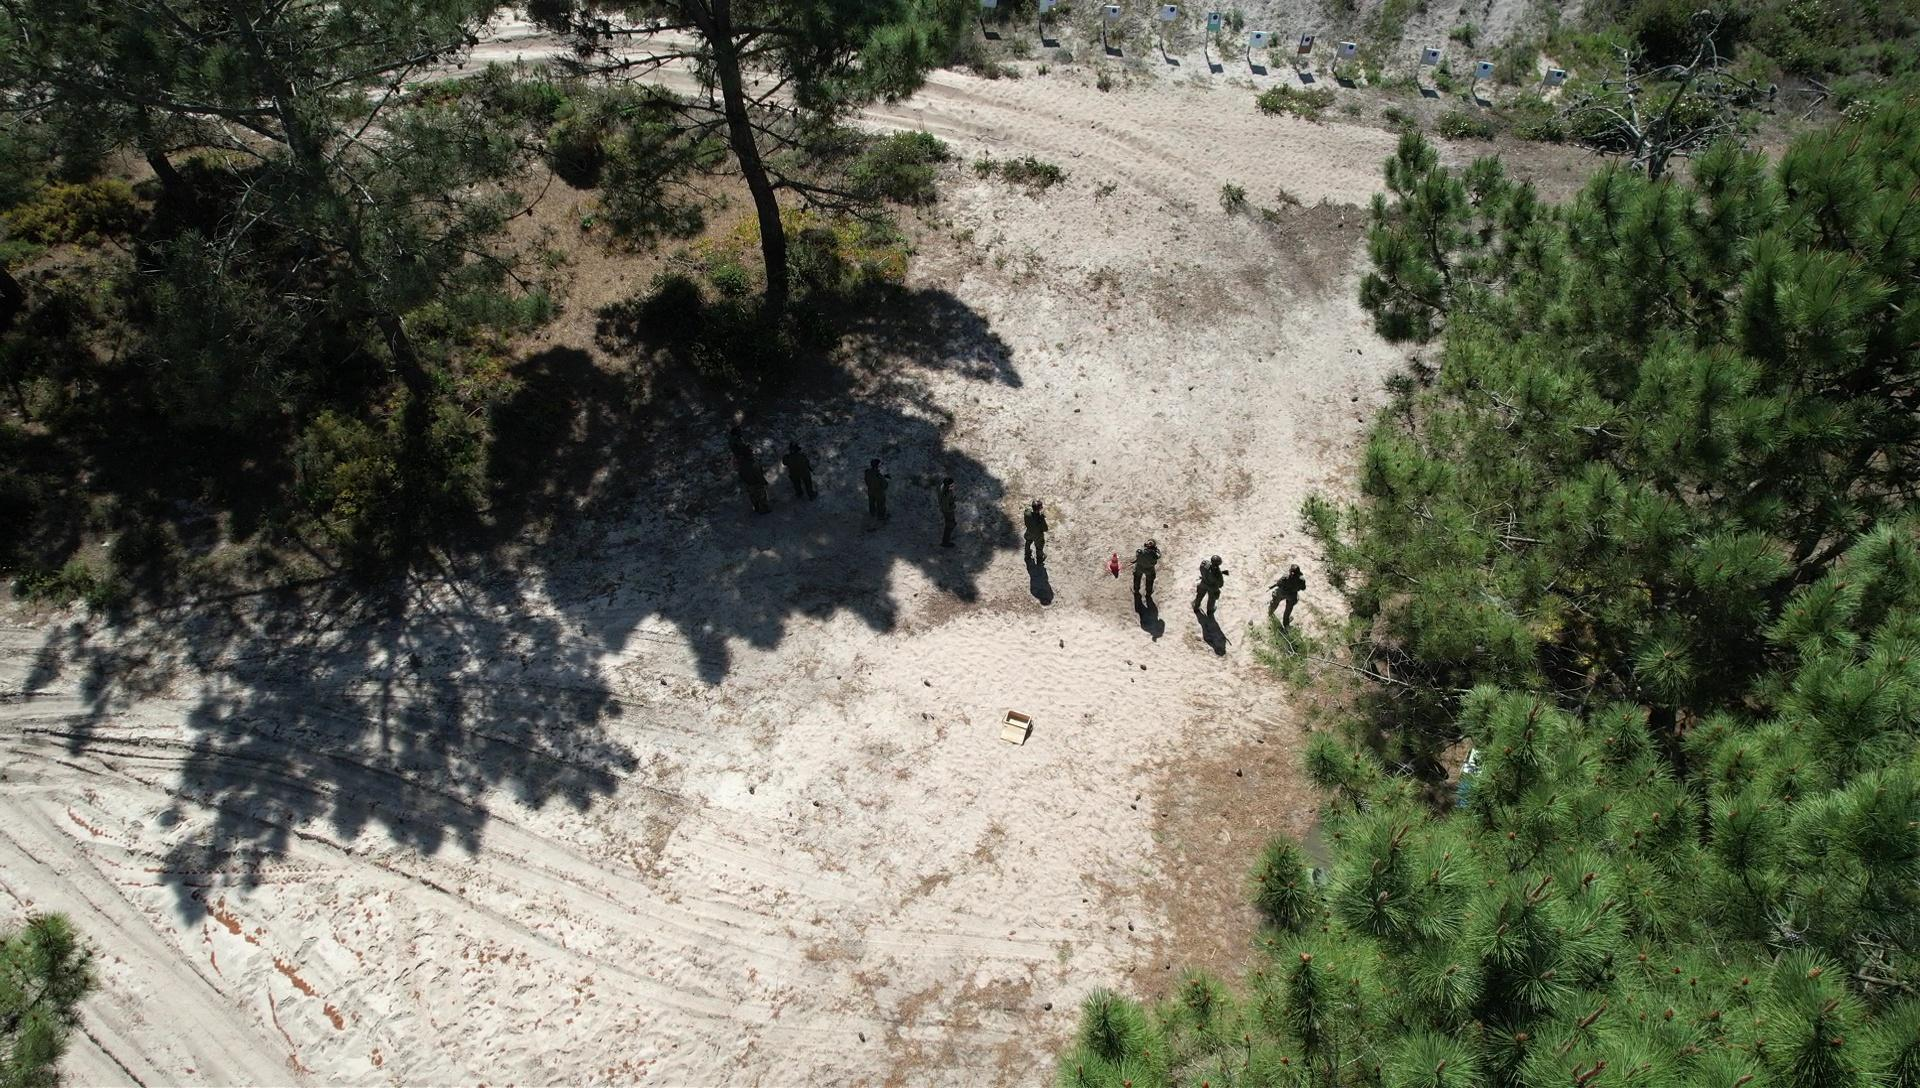Soldier: (1124, 533, 1168, 626), (724, 423, 773, 505), (1263, 553, 1313, 632), (1188, 553, 1233, 637), (927, 472, 971, 554), (779, 438, 822, 521), (1015, 492, 1058, 574), (855, 458, 899, 531)
